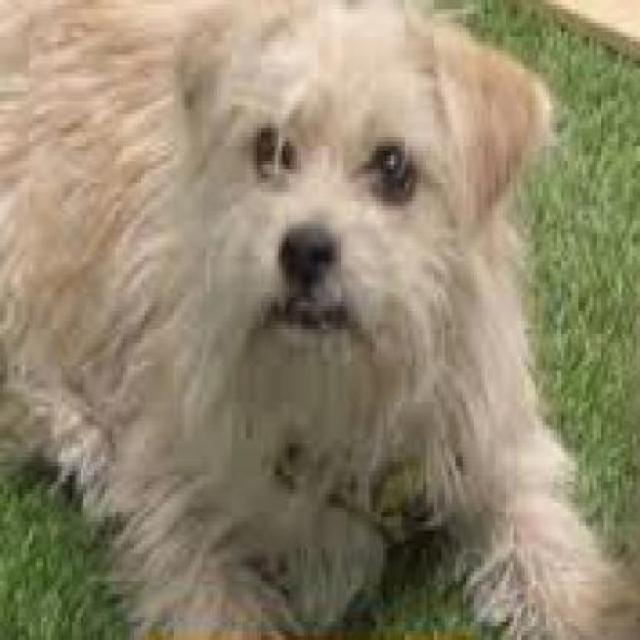Dog: (0, 0, 637, 635)
